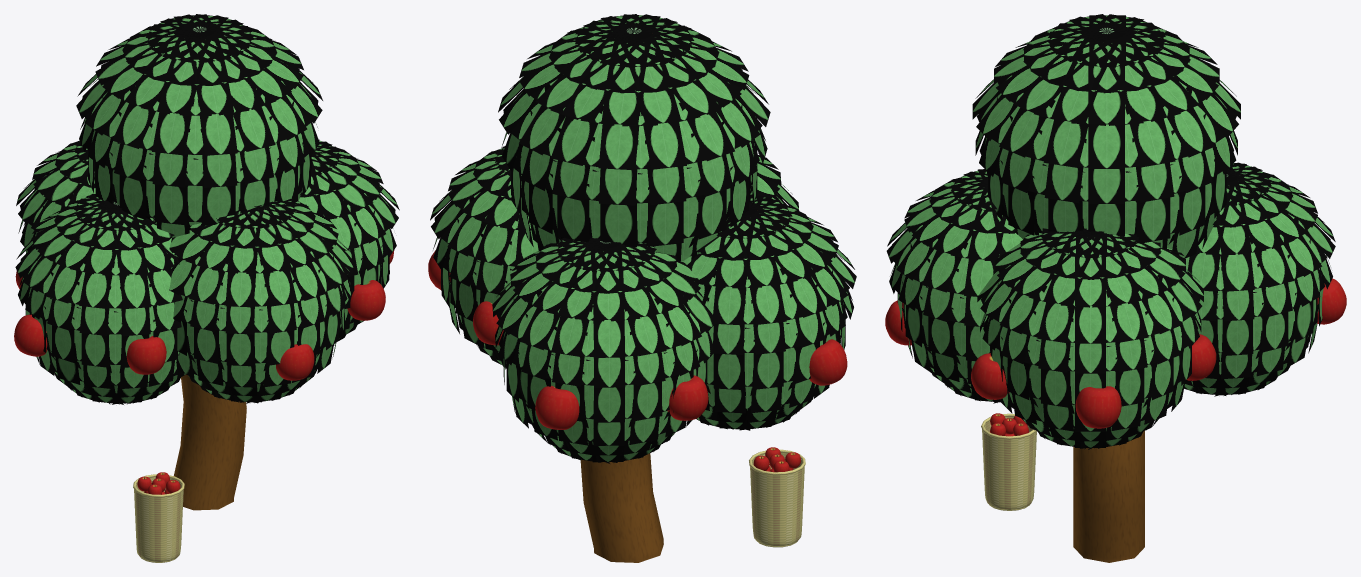
File: stage.glb
3 renders of one model, left to right at view 1: azimuth 30°, elevation 25°; view 2: azimuth 150°, elevation 25°; view 3: azimuth 270°, elevation 25°, orthographic. The views are drawn at different scales.
Parts seen in each view (by area): view 1: tree, basket; view 2: tree, basket; view 3: tree, basket.
Boxes of the visible parts, x1,y1,x2,y2 form: tree: [14, 14, 399, 510]; basket: [133, 472, 184, 562]; tree: [428, 14, 856, 562]; basket: [749, 447, 805, 547]; tree: [885, 14, 1346, 562]; basket: [981, 413, 1036, 510].
Size of the model in its own units: 2.64 by 3.17 by 2.57.
4 materials, 4 textured.
